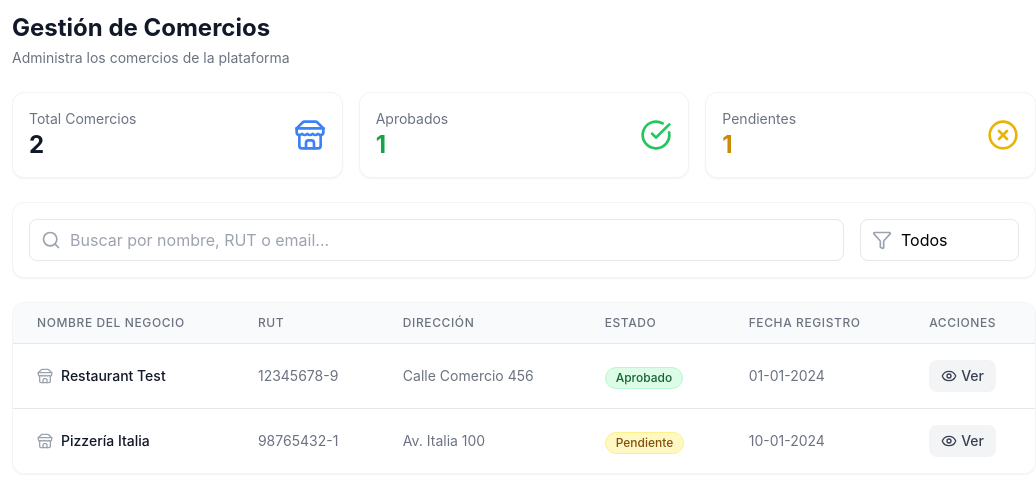
Test: Merchants Component › Filtros › debe buscar comercios por nombre
The width and height of the screenshot is (1036, 491).
Check: the text "Restaurant Test" is shown, box [61,366,166,386]
In the field with placeholder "Buscar por nombre, RUT o email...": (436, 240) [29,219,844,261], type "Pizzería"
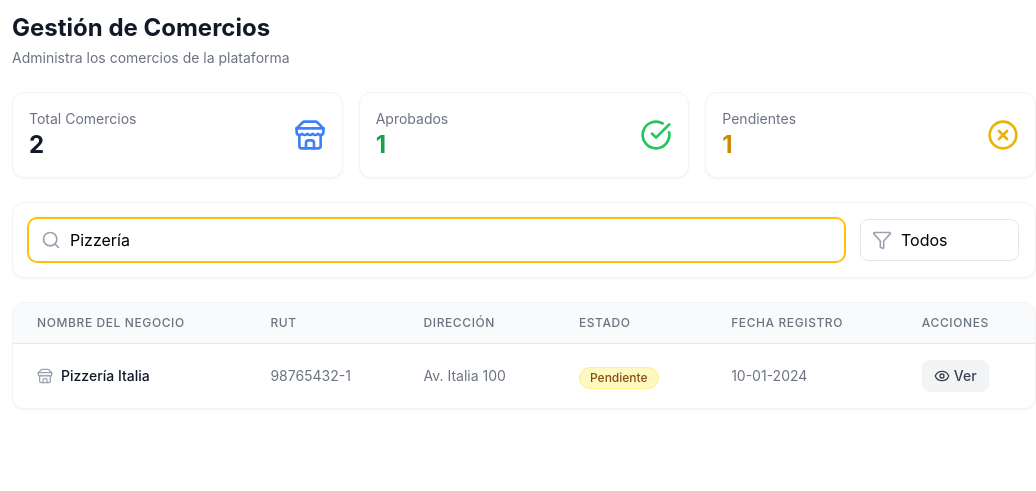
Check: the text "Pizzería Italia" is shown, box [61,366,150,386]
Check: the text "Restaurant Test" is gone
